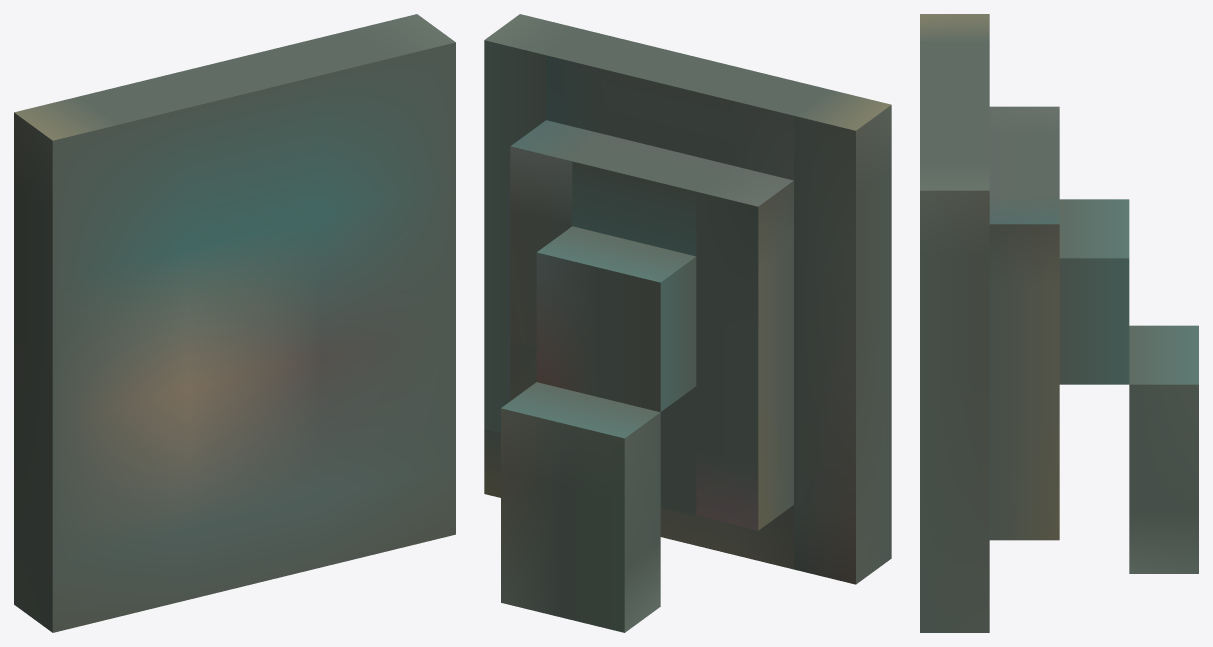
The model's file is PaintingFramedSmall_B_02.obj.
The picture shows the model from 3 angles, left to right: view 1: azimuth 30°, elevation 25°; view 2: azimuth 150°, elevation 25°; view 3: azimuth 270°, elevation 25°; orthographic projection. The views are drawn at different scales.
Parts seen in each view (by area): view 1: PaintingFramedSmall_B_02; view 2: PaintingFramedSmall_B_02; view 3: PaintingFramedSmall_B_02.
Boxes of the visible parts, box(x1,y1,x2,y2) form: PaintingFramedSmall_B_02: box(14, 14, 455, 632); PaintingFramedSmall_B_02: box(484, 14, 891, 632); PaintingFramedSmall_B_02: box(920, 14, 1198, 632).
Bounding box in the file's own units: 0.3 × 0.35 × 0.2.
